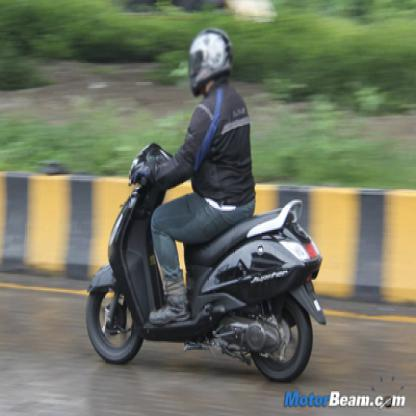Helmet: (177, 22, 248, 98)
